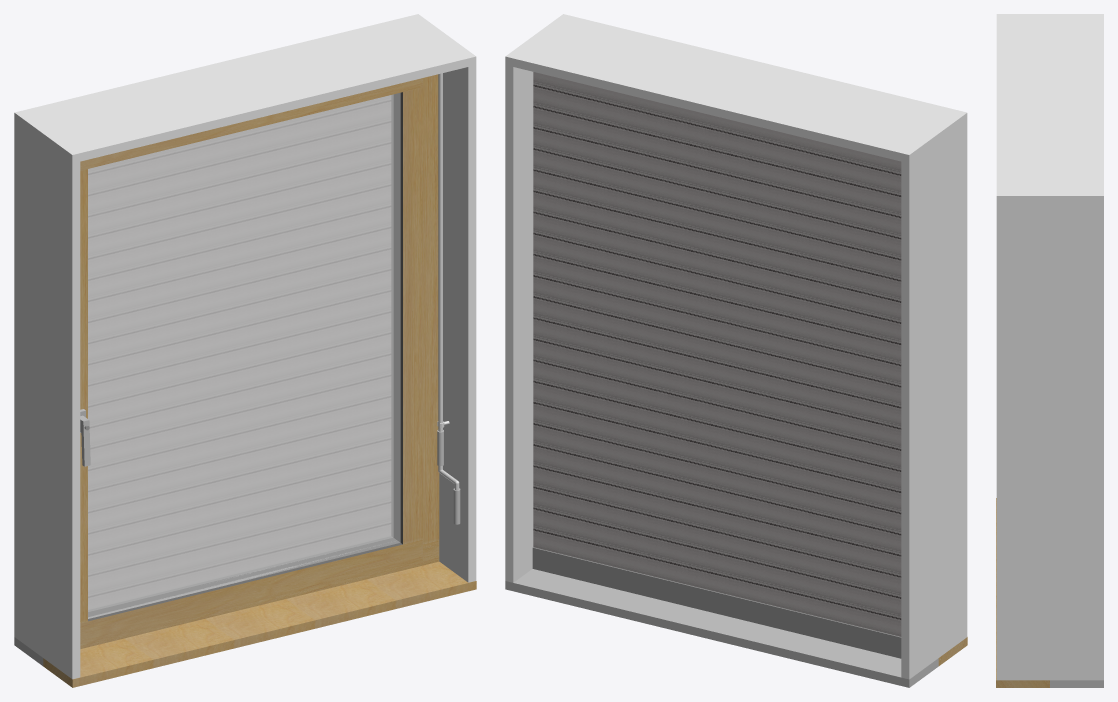
The model's file is sweethome3d-contributions-window-505.glb.
3 views of the same model, side by side, from view 1: azimuth 30°, elevation 25°; view 2: azimuth 150°, elevation 25°; view 3: azimuth 270°, elevation 25° (orthographic). The views are drawn at different scales.
Parts seen in each view (by area): view 1: sweethome3d_opening_on_hinge_1_Window_Pane_wall_1_6_6_30, sweethome3d_opening_on_rail_1_Roller_Shutter_Foot_back_119, Inside_Walls|bottom_163, sweethome3d_rail_1_Outside_Walls_back_179, sweethome3d_opening_on_hinge_1_Inside_Inner_Frame_top_74, Inside_Ledge|bottom_187, Inside_Outer_Frame|front_6, sweethome3d_opening_on_hinge_1_Outside_Inner_Frame_left_39, sweethome3d_opening_on_hinge_2_Roller_Shutter_Crank_Cylinde.; view 2: sweethome3d_opening_on_rail_1_Roller_Shutter_Foot_back_119, sweethome3d_rail_1_Outside_Walls_back_179, Inside_Walls|bottom_163, Outside_Ledge|bottom_193; view 3: sweethome3d_rail_1_Outside_Walls_back_179, Inside_Walls|bottom_163, Inside_Ledge|bottom_187, Outside_Ledge|bottom_193.
Boxes of the visible parts, left/top/right/bottom form: sweethome3d_opening_on_hinge_1_Window_Pane_wall_1_6_6_30: left=88, top=93, right=400, bottom=618; sweethome3d_opening_on_rail_1_Roller_Shutter_Foot_back_119: left=88, top=95, right=390, bottom=609; Inside_Walls|bottom_163: left=43, top=35, right=476, bottom=679; sweethome3d_rail_1_Outside_Walls_back_179: left=14, top=14, right=446, bottom=657; sweethome3d_opening_on_hinge_1_Inside_Inner_Frame_top_74: left=80, top=78, right=422, bottom=644; Inside_Ledge|bottom_187: left=43, top=561, right=476, bottom=687; Inside_Outer_Frame|front_6: left=80, top=74, right=439, bottom=648; sweethome3d_opening_on_hinge_1_Outside_Inner_Frame_left_39: left=88, top=92, right=402, bottom=621; sweethome3d_opening_on_hinge_2_Roller_Shutter_Crank_Cylinde.: left=437, top=73, right=460, bottom=524; sweethome3d_opening_on_rail_1_Roller_Shutter_Foot_back_119: left=532, top=72, right=901, bottom=658; sweethome3d_rail_1_Outside_Walls_back_179: left=505, top=35, right=938, bottom=679; Inside_Walls|bottom_163: left=534, top=14, right=967, bottom=657; Outside_Ledge|bottom_193: left=505, top=569, right=938, bottom=687; sweethome3d_rail_1_Outside_Walls_back_179: left=1050, top=14, right=1103, bottom=680; Inside_Walls|bottom_163: left=996, top=14, right=1049, bottom=680; Inside_Ledge|bottom_187: left=996, top=498, right=1049, bottom=687; Outside_Ledge|bottom_193: left=1050, top=680, right=1103, bottom=687.
Size of the model in its own units: 100 by 126 by 25.
18 materials, 4 textured.
